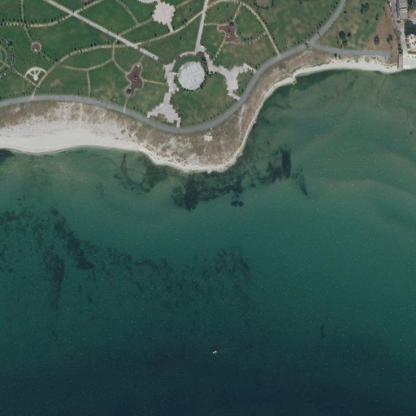ship: (209, 331, 215, 335)
